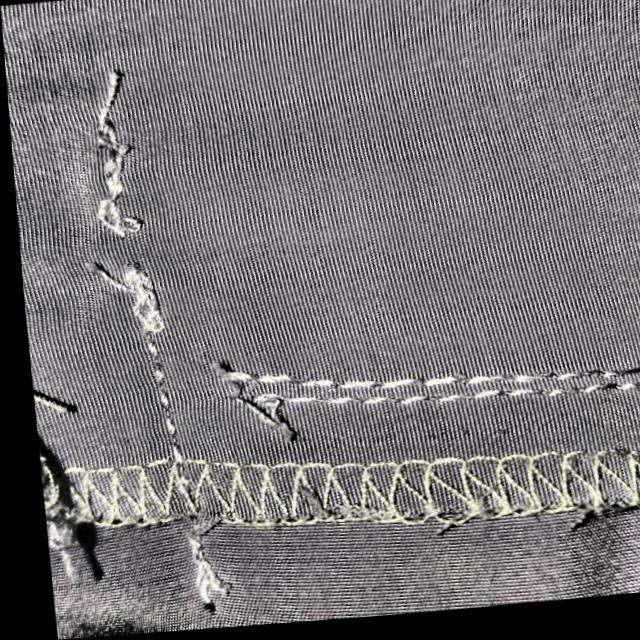Stitch: (112, 325, 333, 461), (40, 156, 202, 334)
